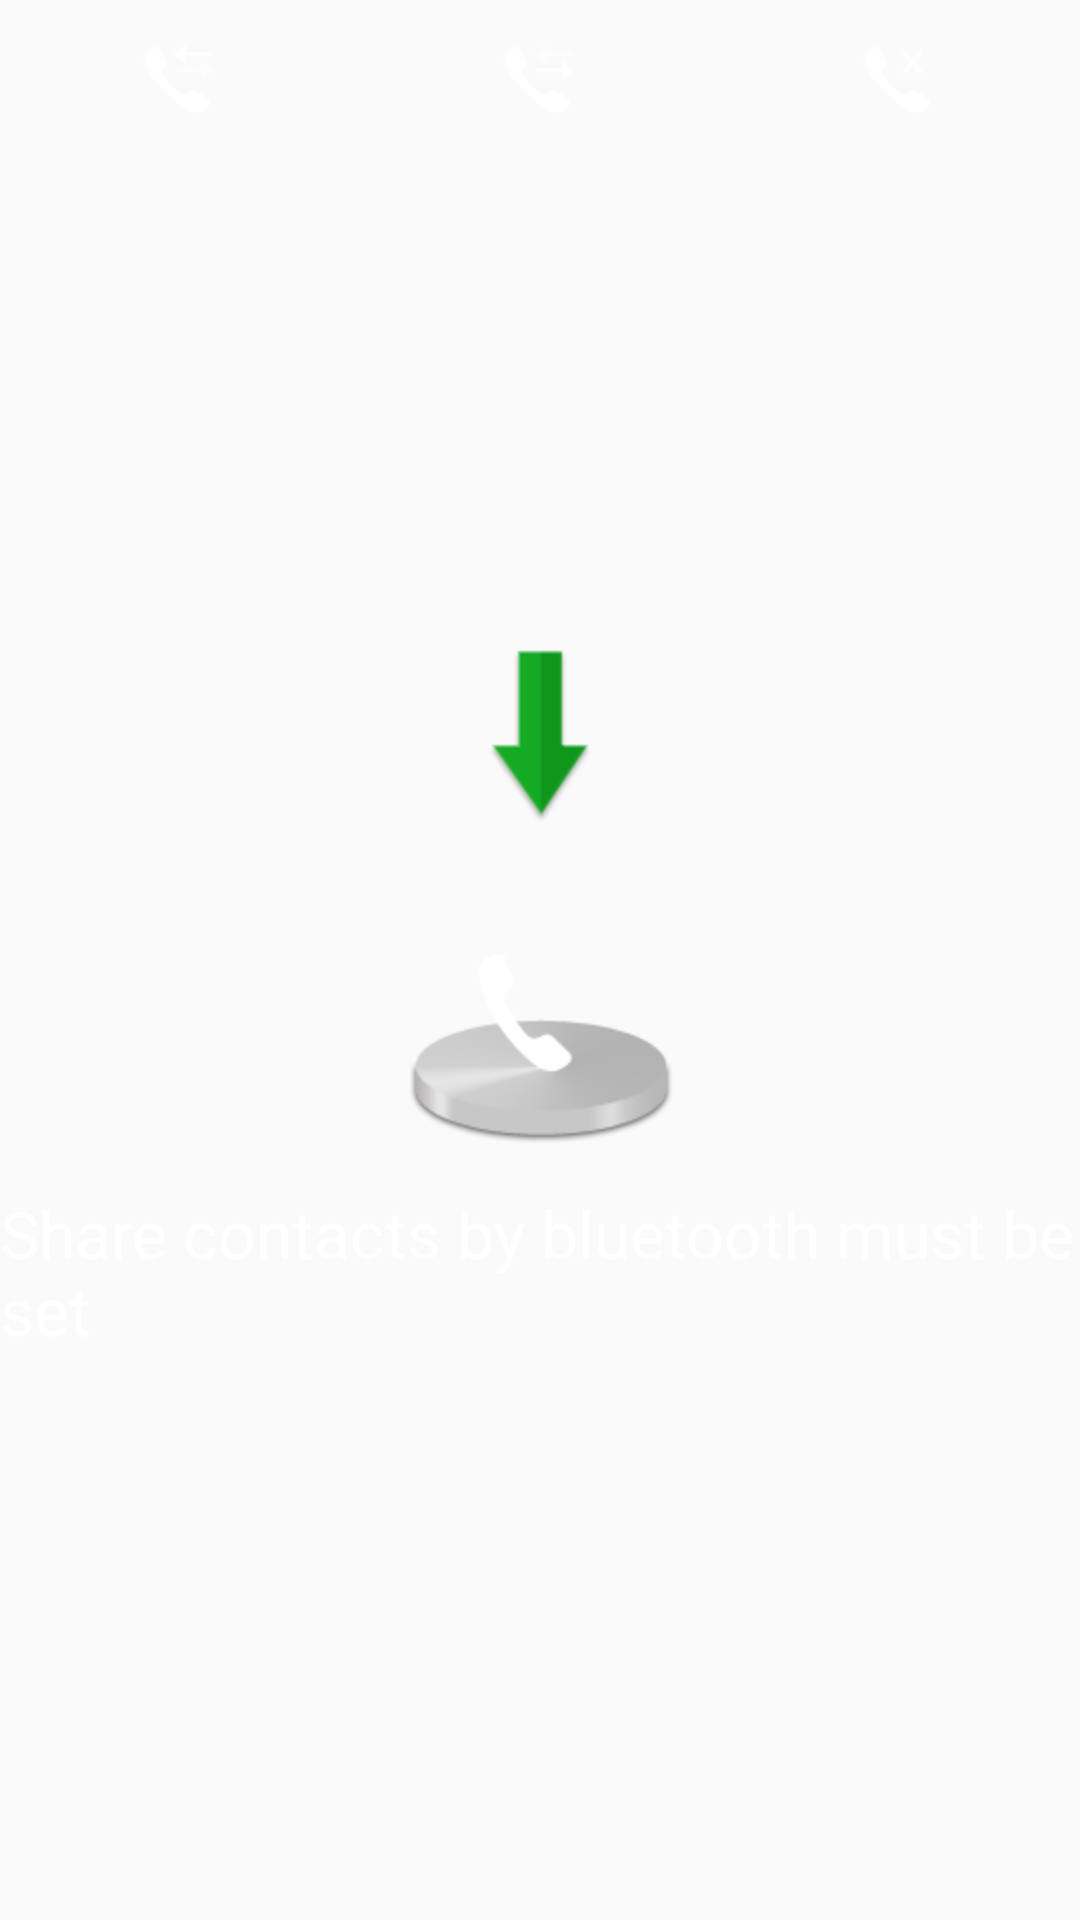

Icons on this 1080 x 1920 Android screen, each with its box as (x1, y1, x2, y2):
load: (492, 650, 588, 818)
